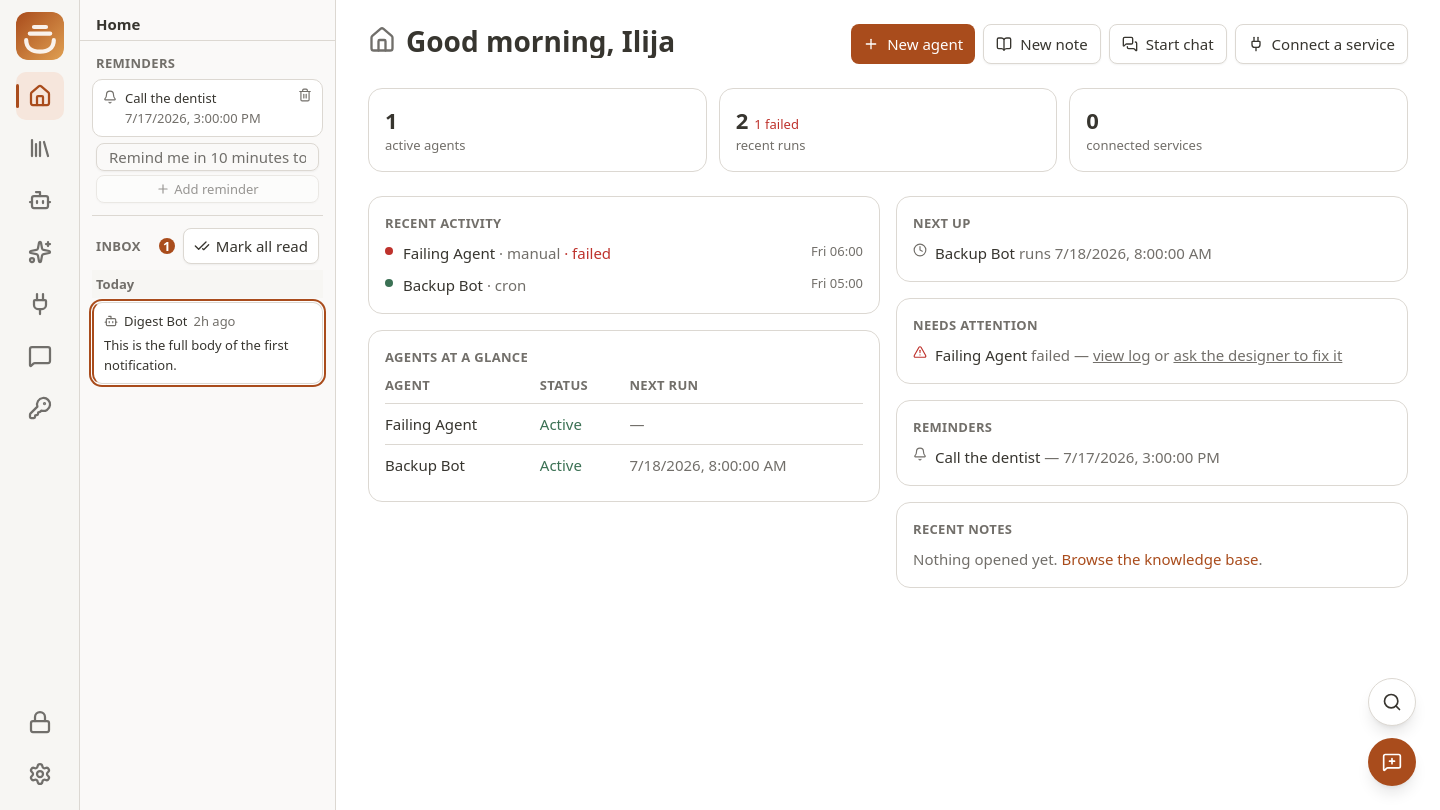
Test case: reminders: adding an unparseable sentence shows the error inline and keeps the text
The width and height of the screenshot is (1440, 810).
Expected: the text "Call the dentist" below "Home" is shown, x1=125 y1=89 x2=216 y2=107
In the field named "reminder": (208, 157) x1=96 y1=143 x2=319 y2=171, type "check the oven banana"
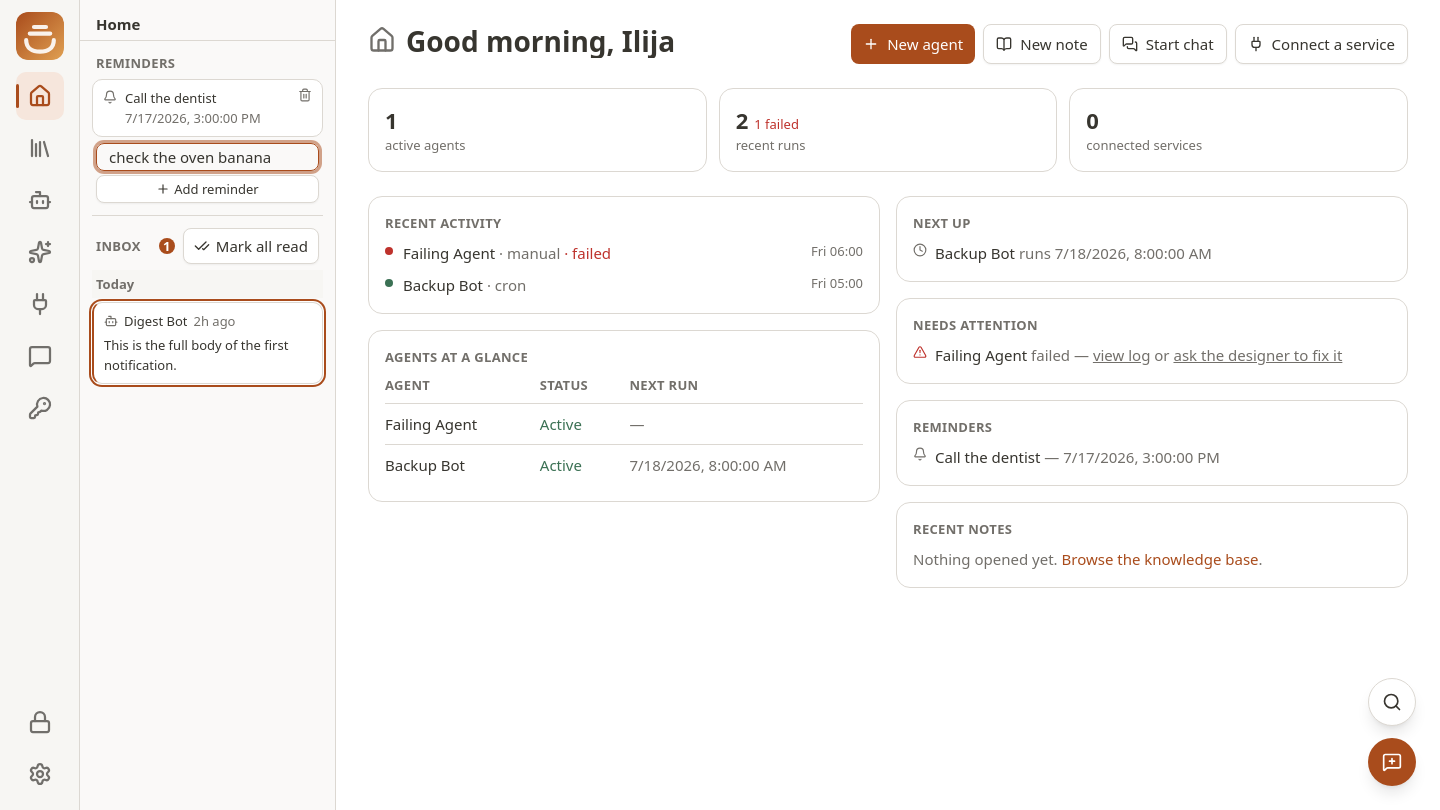
Click the button "Add reminder": (208, 189) x1=96 y1=175 x2=319 y2=203
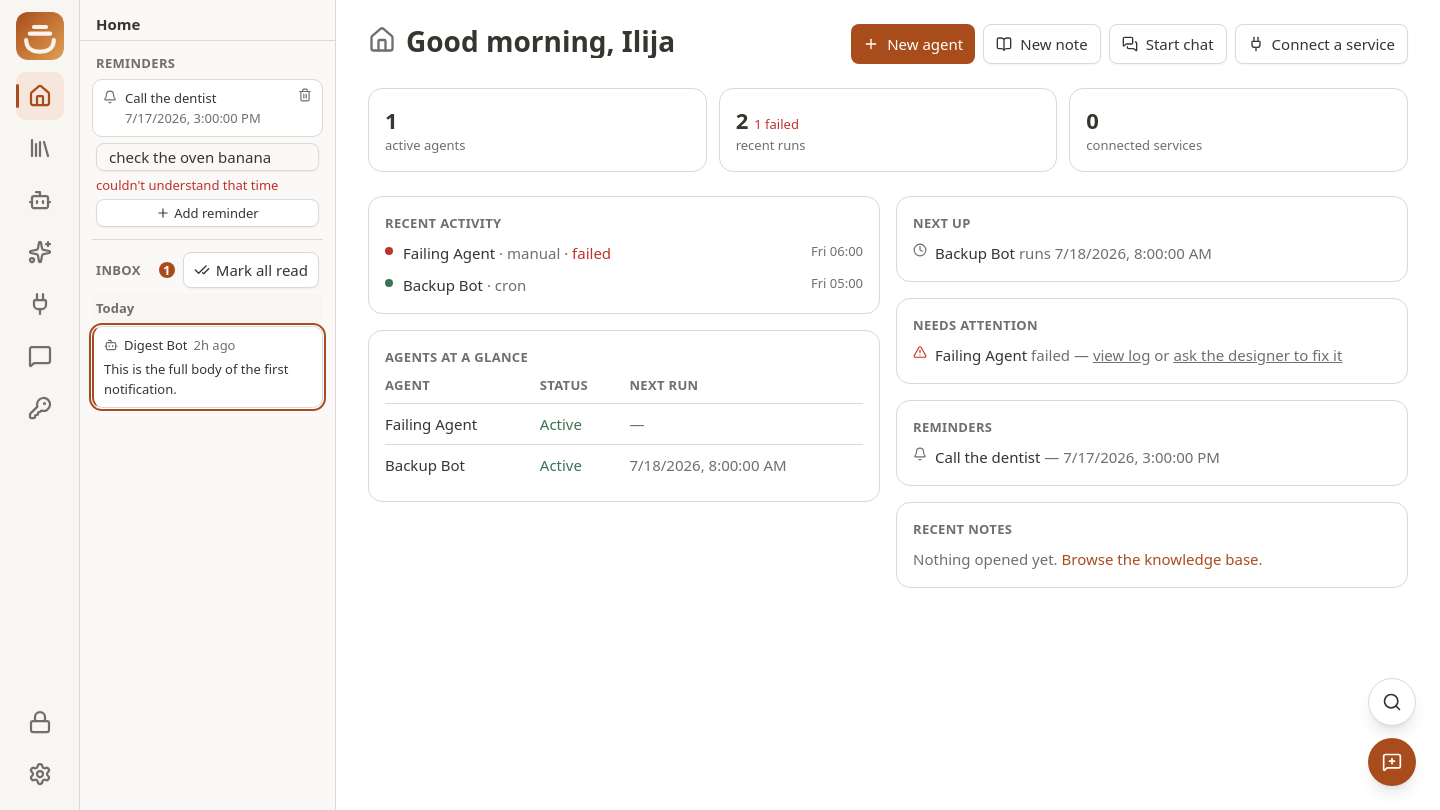
Result: the text "couldn't understand that time" is shown at x1=96 y1=176 x2=278 y2=194
